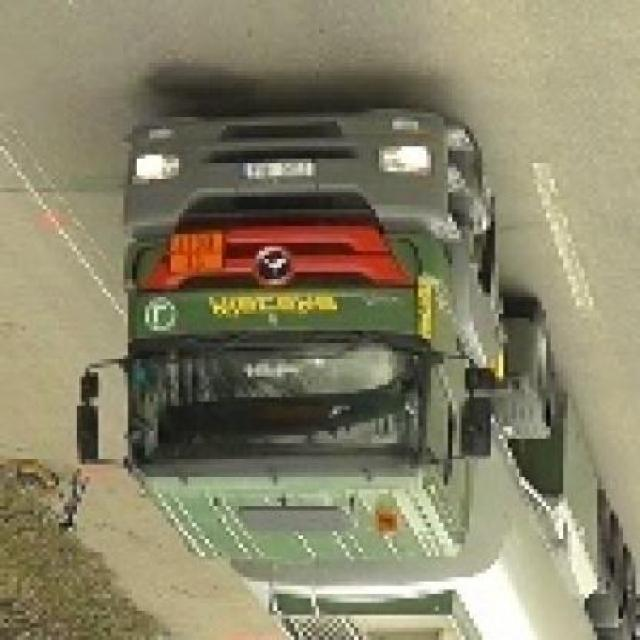truck: (78, 110, 640, 640)
